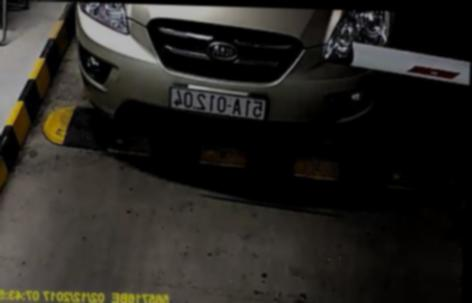License_Plate: (165, 86, 270, 118)
